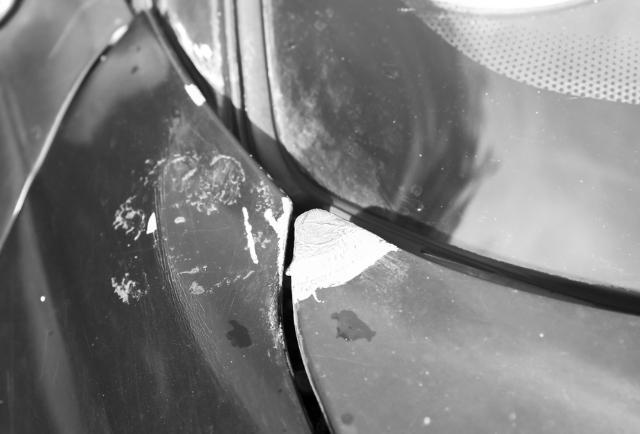Bumper: (52, 31, 463, 434)
